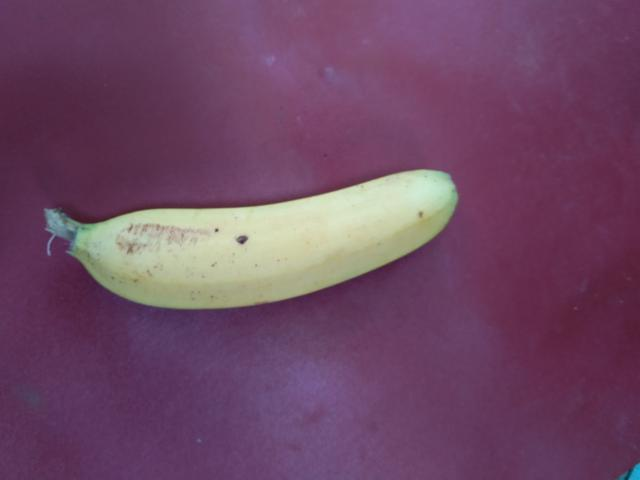freshripe: (58, 155, 470, 324)
